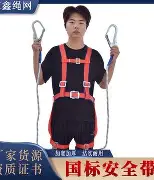safety belt: (47, 45, 102, 150)
